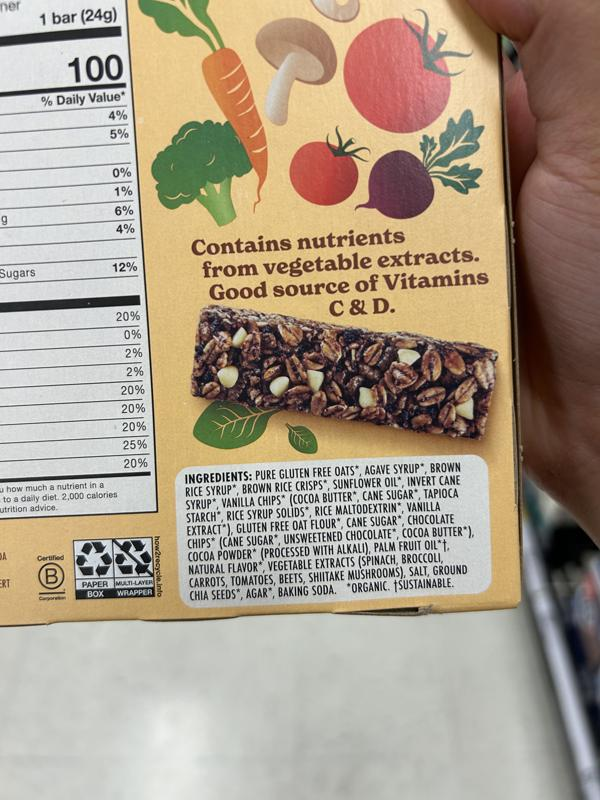ingredients: (183, 461, 476, 602)
